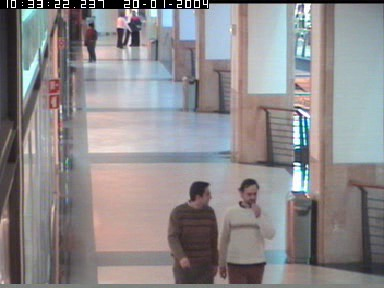person: (218, 178, 276, 284), (167, 181, 219, 284), (84, 21, 98, 62), (128, 11, 143, 47), (117, 11, 131, 49)
